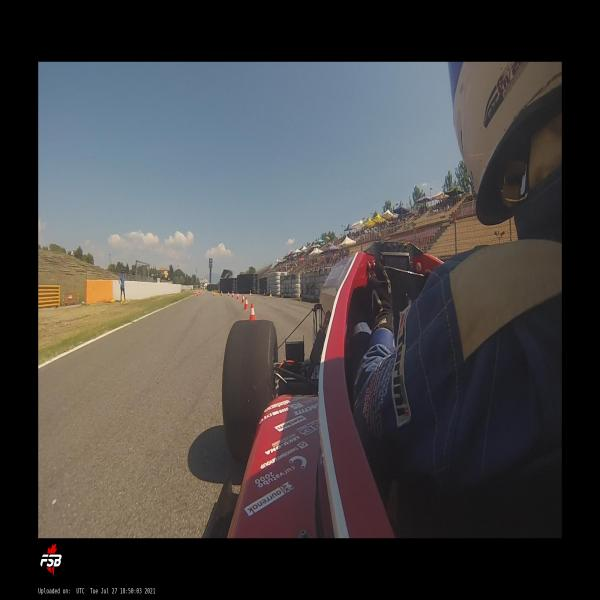orange_cone: (249, 302, 256, 320), (243, 296, 250, 311), (240, 293, 245, 304), (227, 291, 230, 297), (237, 292, 239, 300), (232, 292, 234, 298)
yellow_cone: (269, 290, 272, 298), (249, 289, 252, 295), (300, 292, 302, 300), (264, 290, 266, 295)
